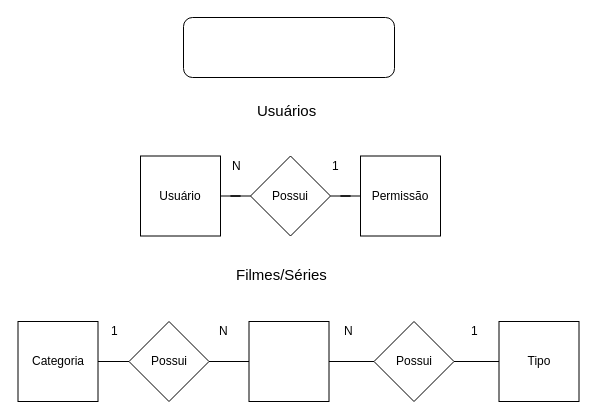
Image size: 596x419. Some labels were removed from this diagram. Here are the shapes that lost their labels. From the top down, the centre of each, then its label:
the point at 288,47: Modelagem Conceitual
the point at 288,361: Lançamento
